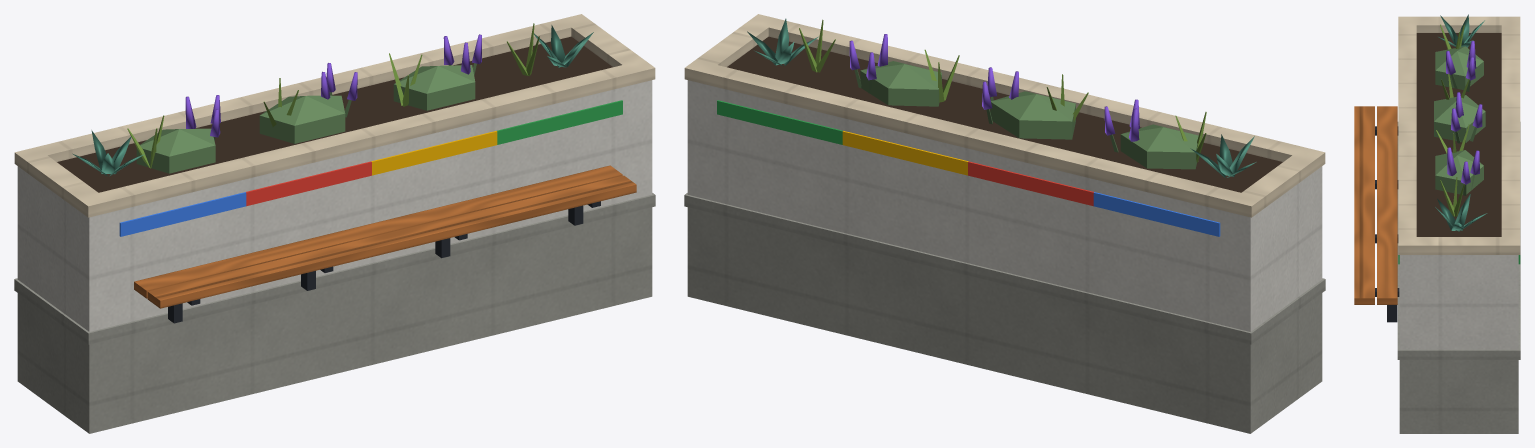
File: prop_garden_planter_wall.glb
3 views of the same model, side by side, from view 1: azimuth 30°, elevation 25°; view 2: azimuth 150°, elevation 25°; view 3: azimuth 270°, elevation 25° (orthographic). The views are drawn at different scales.
Parts seen in each view (by area): view 1: PlanterWall_conc_skirt, PlanterWall_conc_white, PlanterWall_travertine, PlanterWall_cedar, PlanterWall_mulch, PlanterWall_sage, PlanterWall_g_blue, PlanterWall_g_red, PlanterWall_g_yellow, PlanterWall_g_green, PlanterWall_lavender, PlanterWall_agave (+2 smaller); view 2: PlanterWall_conc_white, PlanterWall_conc_skirt, PlanterWall_travertine, PlanterWall_mulch, PlanterWall_sage, PlanterWall_g_blue, PlanterWall_g_red, PlanterWall_g_yellow, PlanterWall_g_green, PlanterWall_lavender, PlanterWall_agave, PlanterWall_grass; view 3: PlanterWall_travertine, PlanterWall_conc_white, PlanterWall_conc_skirt, PlanterWall_mulch, PlanterWall_cedar, PlanterWall_sage, PlanterWall_lavender, PlanterWall_agave, PlanterWall_grass, PlanterWall_steel_dark.
Boxes of the visible parts, x1,y1,x2,y2 form: PlanterWall_conc_skirt: (14,193,655,433); PlanterWall_conc_white: (17,80,652,331); PlanterWall_travertine: (14,14,655,217); PlanterWall_cedar: (134,165,636,308); PlanterWall_mulch: (57,36,612,192); PlanterWall_sage: (136,63,476,173); PlanterWall_g_blue: (119,192,246,236); PlanterWall_g_red: (246,161,371,206); PlanterWall_g_yellow: (371,131,497,175); PlanterWall_g_green: (497,100,622,144); PlanterWall_lavender: (185,34,481,137); PlanterWall_agave: (72,25,593,176); PlanterWall_conc_white: (687,80,1322,331); PlanterWall_conc_skirt: (684,193,1325,433); PlanterWall_travertine: (684,14,1325,217); PlanterWall_mulch: (727,36,1282,192); PlanterWall_sage: (854,61,1198,169); PlanterWall_g_blue: (1093,192,1220,236); PlanterWall_g_red: (968,161,1093,206); PlanterWall_g_yellow: (842,131,968,175); PlanterWall_g_green: (717,100,842,144); PlanterWall_lavender: (849,34,1139,141); PlanterWall_agave: (747,18,1256,177); PlanterWall_grass: (799,19,1206,162); PlanterWall_travertine: (1398,16,1520,254); PlanterWall_conc_white: (1399,255,1518,349); PlanterWall_conc_skirt: (1397,122,1520,433); PlanterWall_mulch: (1416,33,1501,236); PlanterWall_cedar: (1354,106,1397,304); PlanterWall_sage: (1434,46,1485,195); PlanterWall_lavender: (1446,41,1482,184); PlanterWall_agave: (1435,14,1487,231); PlanterWall_grass: (1436,24,1469,216); PlanterWall_steel_dark: (1375,126,1399,322).
Size of the model in its own units: 5.24 by 2.38 by 1.61.
Materials: 14 (4 with a texture image).
